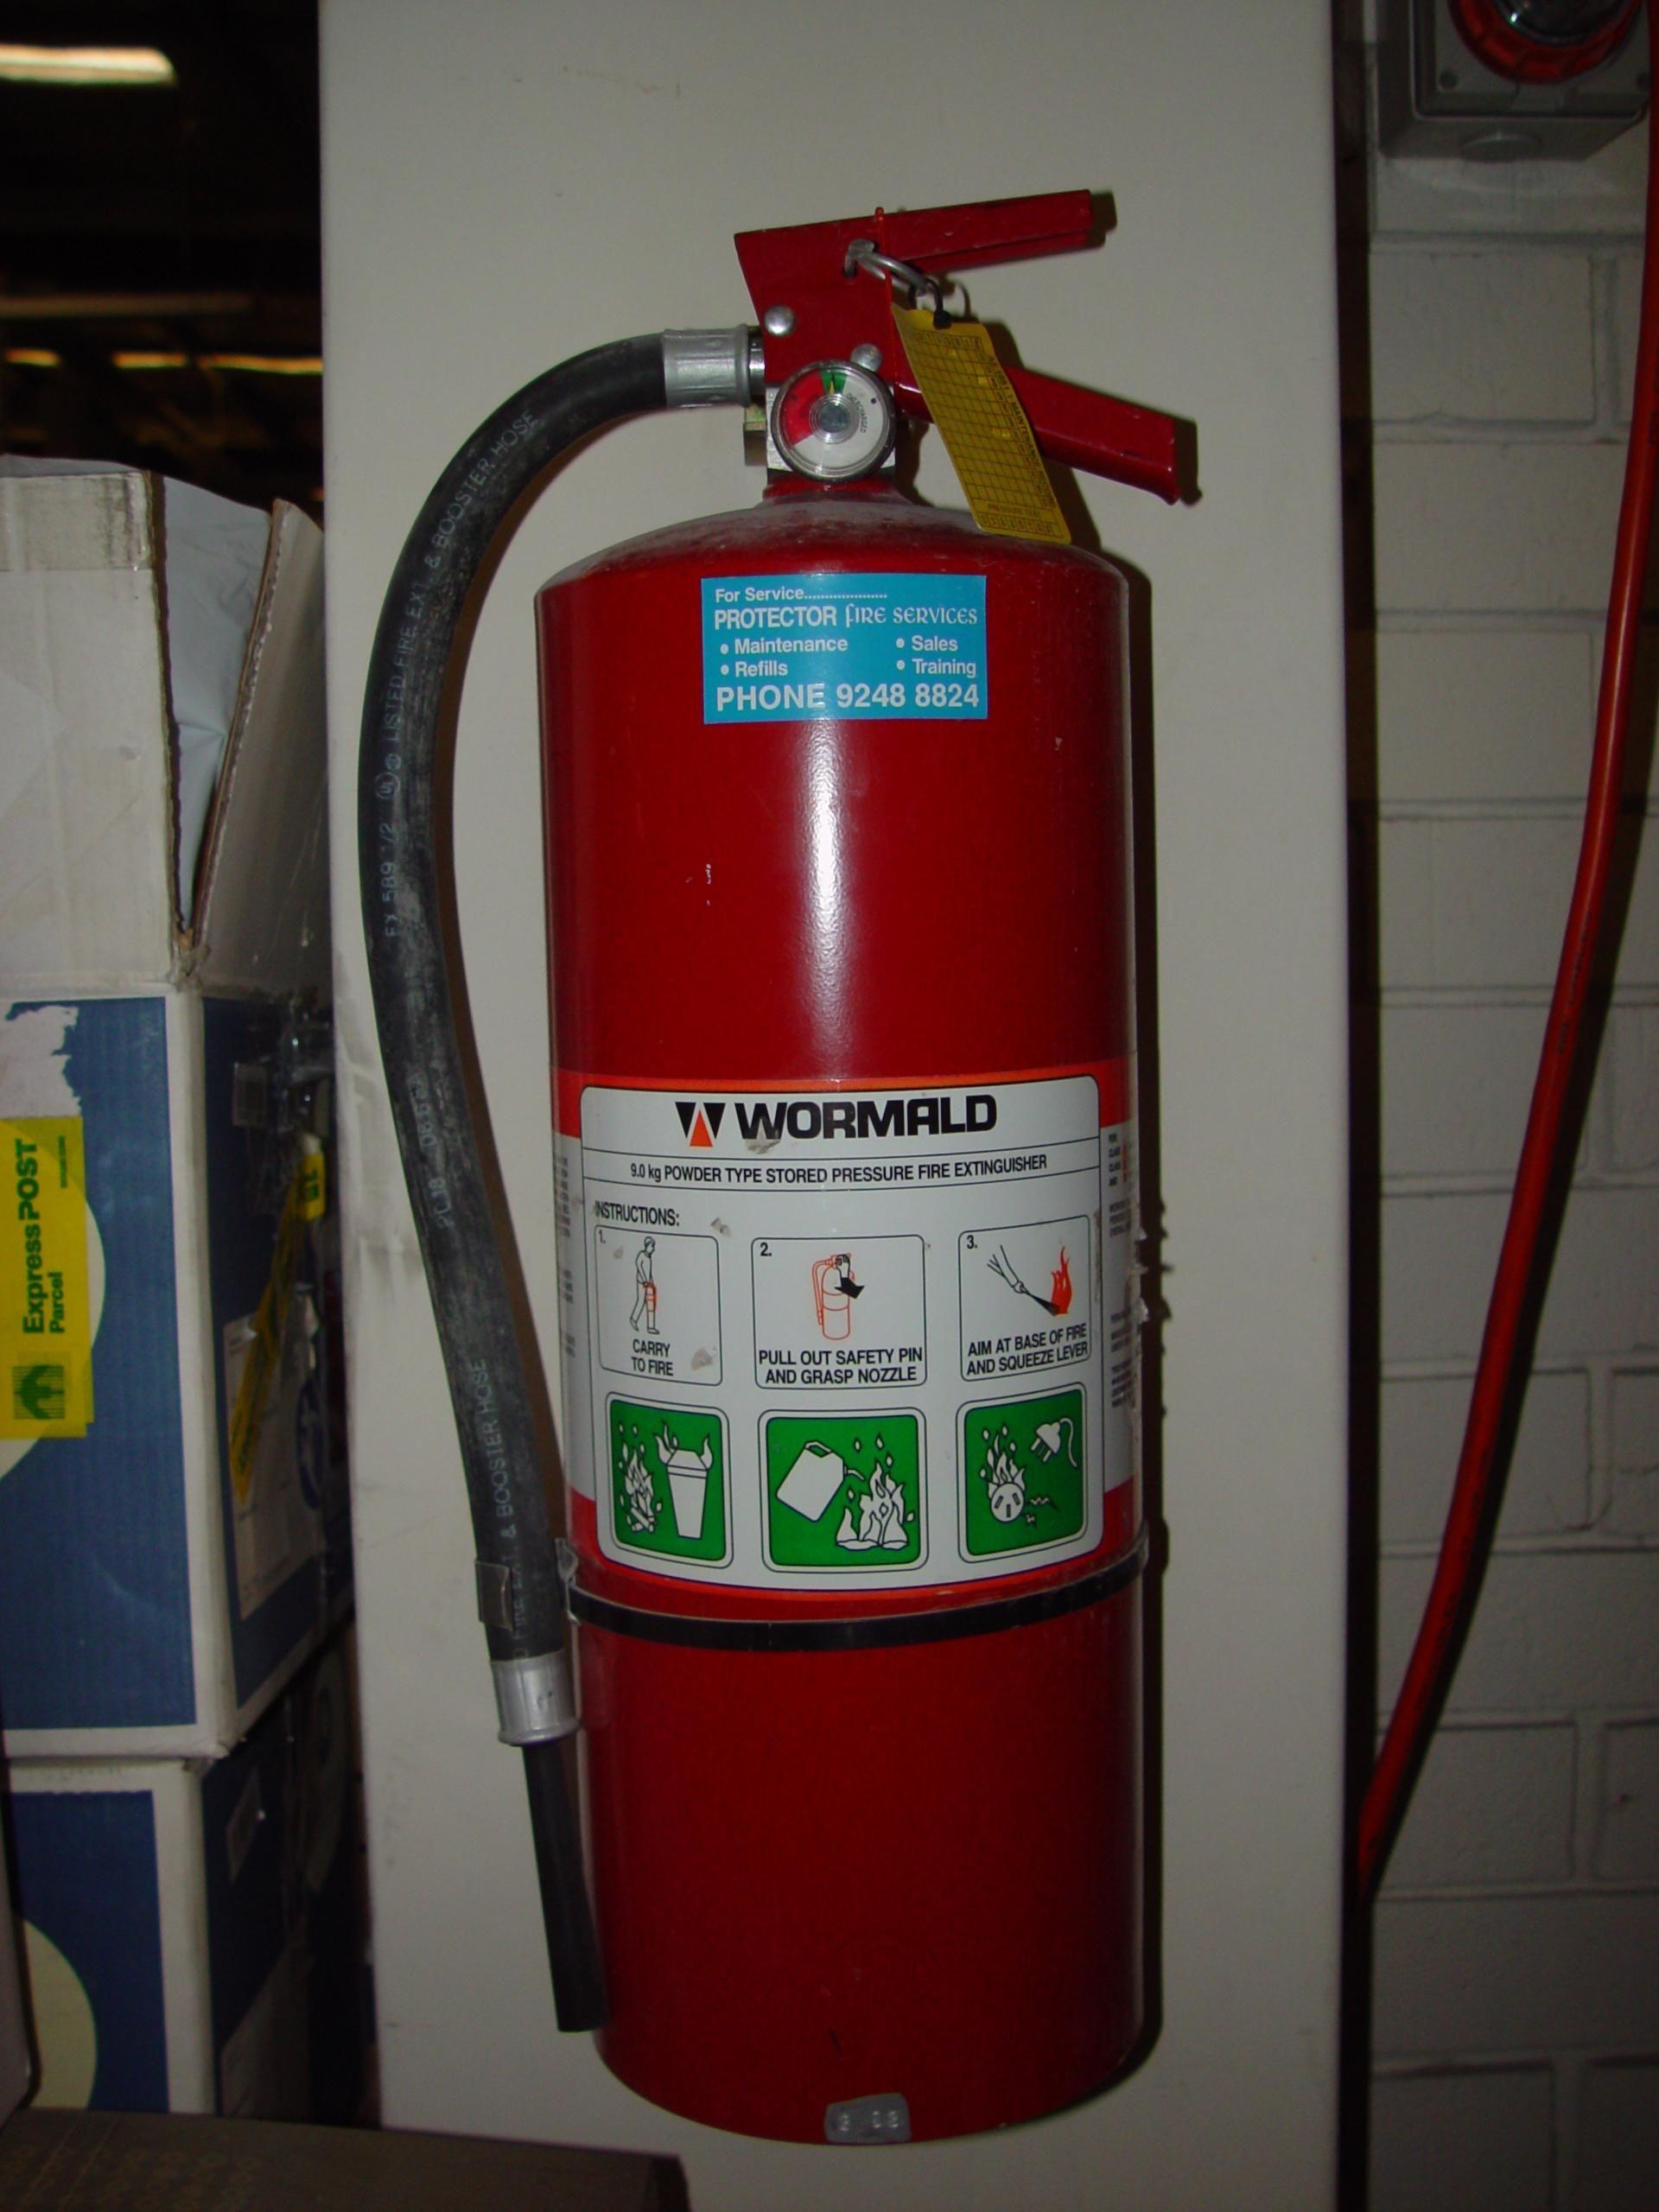Fire Extinguisher: (328, 60, 1253, 2186)
